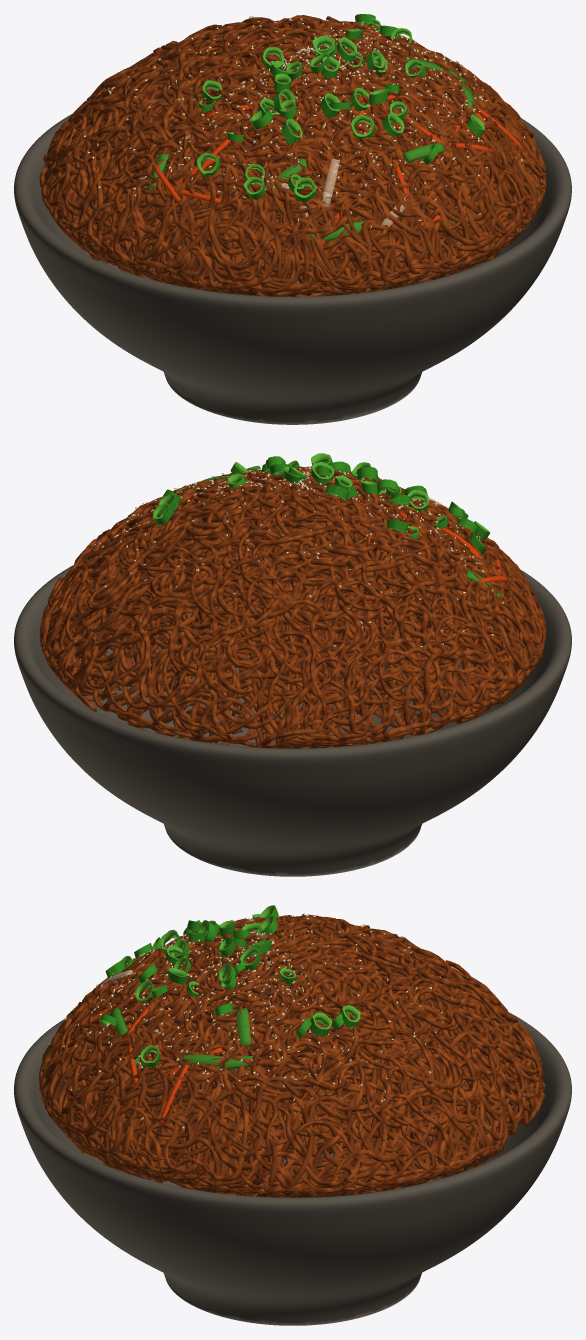
Rendered from wok-tossed-chow-mein.glb.
3 renders of one model, top to bottom at view 1: azimuth 30°, elevation 25°; view 2: azimuth 150°, elevation 25°; view 3: azimuth 270°, elevation 25°, orthographic.
Parts seen in each view (by area): view 1: Noodles_BaseEnsemble, Donburi_Bowl, Scallion_00, Scallion_00.001, Sesame_Seeds_RaycastLocked, Carrot_00, BokChoy_00, Onion_00; view 2: Noodles_BaseEnsemble, Donburi_Bowl, Scallion_00.001, Scallion_00, Sesame_Seeds_RaycastLocked, Carrot_00; view 3: Noodles_BaseEnsemble, Donburi_Bowl, Scallion_00.001, Scallion_00, Sesame_Seeds_RaycastLocked, BokChoy_00, Carrot_00.
Part boxes in pixels (x1=…): Noodles_BaseEnsemble: x1=39, y1=15, x2=546, y2=296; Donburi_Bowl: x1=14, y1=114, x2=571, y2=424; Scallion_00: x1=197, y1=14, x2=485, y2=198; Scallion_00.001: x1=198, y1=14, x2=484, y2=202; Sesame_Seeds_RaycastLocked: x1=84, y1=16, x2=525, y2=228; Carrot_00: x1=152, y1=83, x2=524, y2=260; BokChoy_00: x1=146, y1=58, x2=475, y2=243; Onion_00: x1=268, y1=119, x2=446, y2=234; Noodles_BaseEnsemble: x1=39, y1=466, x2=546, y2=748; Donburi_Bowl: x1=14, y1=565, x2=571, y2=876; Scallion_00.001: x1=153, y1=456, x2=489, y2=554; Scallion_00: x1=153, y1=453, x2=490, y2=548; Sesame_Seeds_RaycastLocked: x1=94, y1=466, x2=503, y2=647; Carrot_00: x1=400, y1=511, x2=509, y2=584; Noodles_BaseEnsemble: x1=39, y1=914, x2=545, y2=1197; Donburi_Bowl: x1=14, y1=1012, x2=571, y2=1325; Scallion_00.001: x1=99, y1=906, x2=358, y2=1067; Scallion_00: x1=99, y1=905, x2=360, y2=1067; Sesame_Seeds_RaycastLocked: x1=62, y1=913, x2=442, y2=1129; BokChoy_00: x1=78, y1=958, x2=253, y2=1089; Carrot_00: x1=64, y1=973, x2=222, y2=1123.
Bounding box in the file's own units: 2.2 × 1.48 × 2.2.
8 materials, 1 textured.
